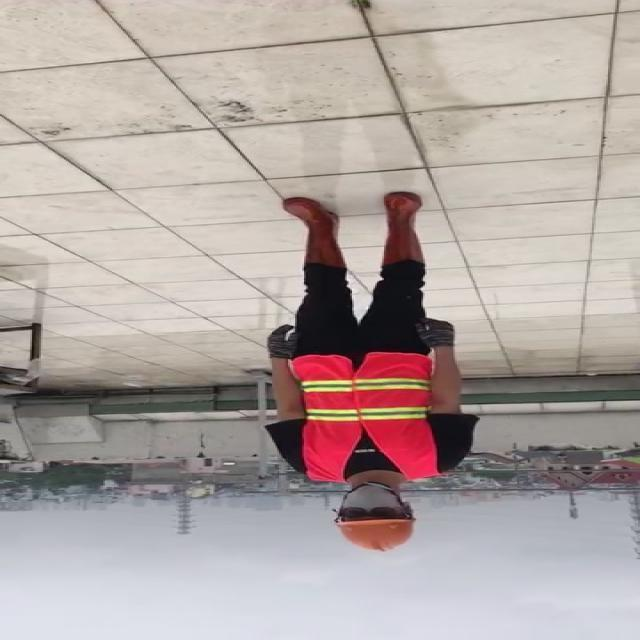safetyhelmet: (328, 476, 420, 556)
